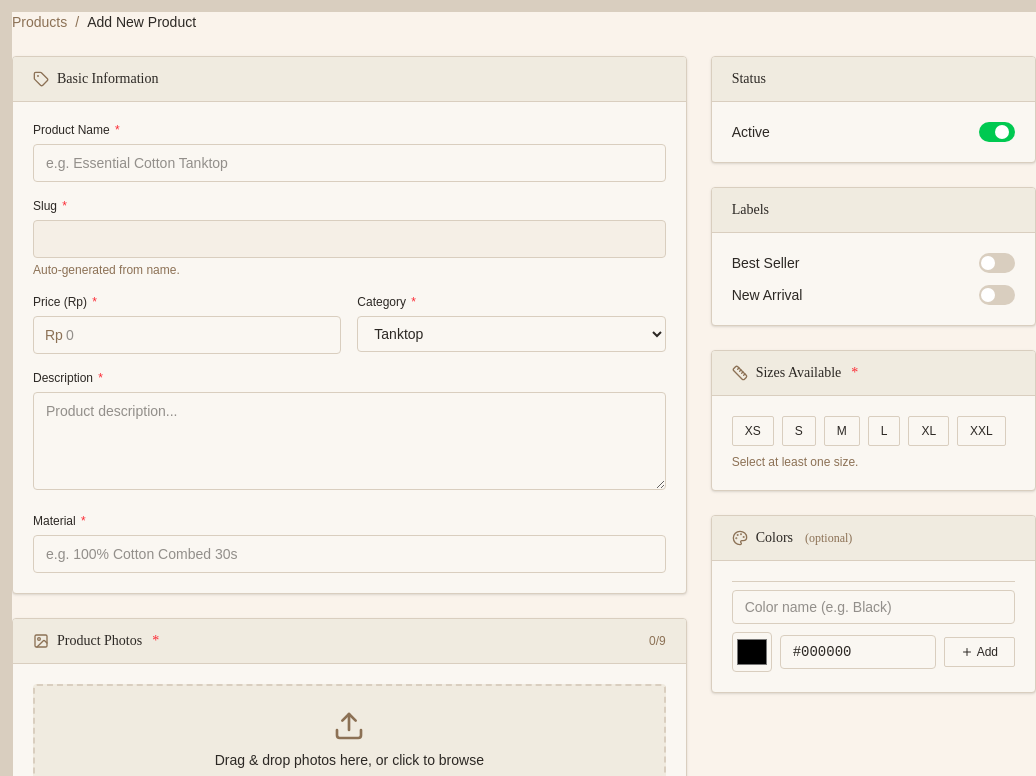
Test: ProductForm › Add mode (no product prop) › adds a color
The width and height of the screenshot is (1036, 776).
Type "Red" into the field with placeholder "Color name (e.g. Black)" at x=873, y=607, box [732, 590, 1015, 624]
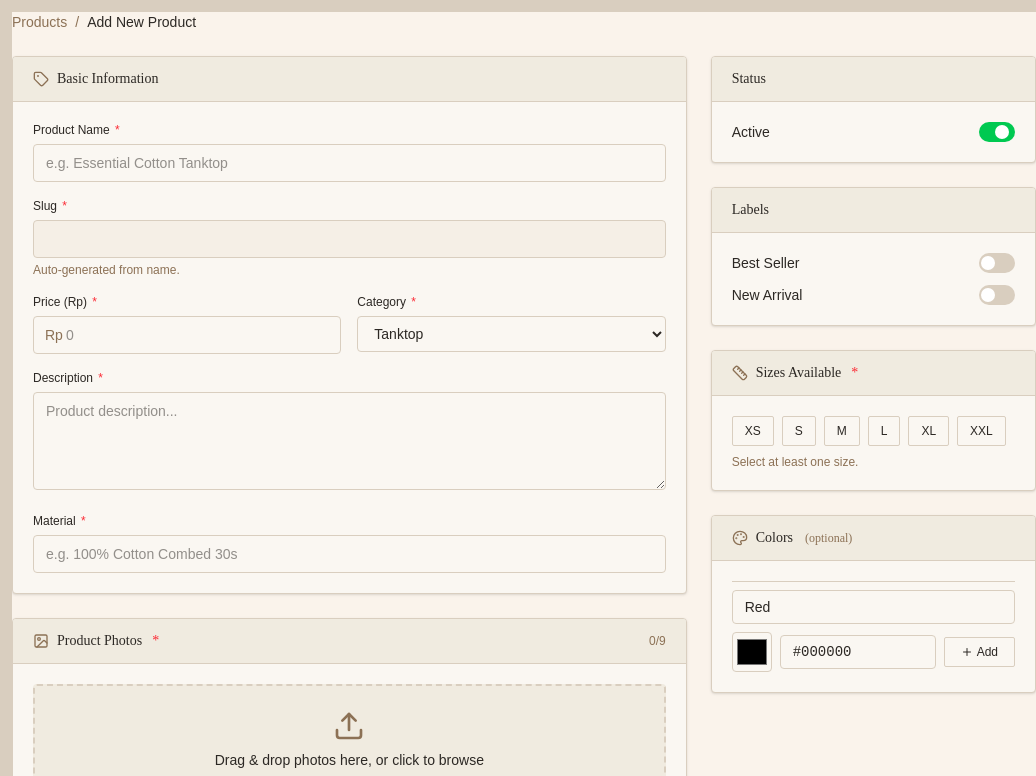
Click the button "Add" at x=979, y=652, box [944, 637, 1015, 667]
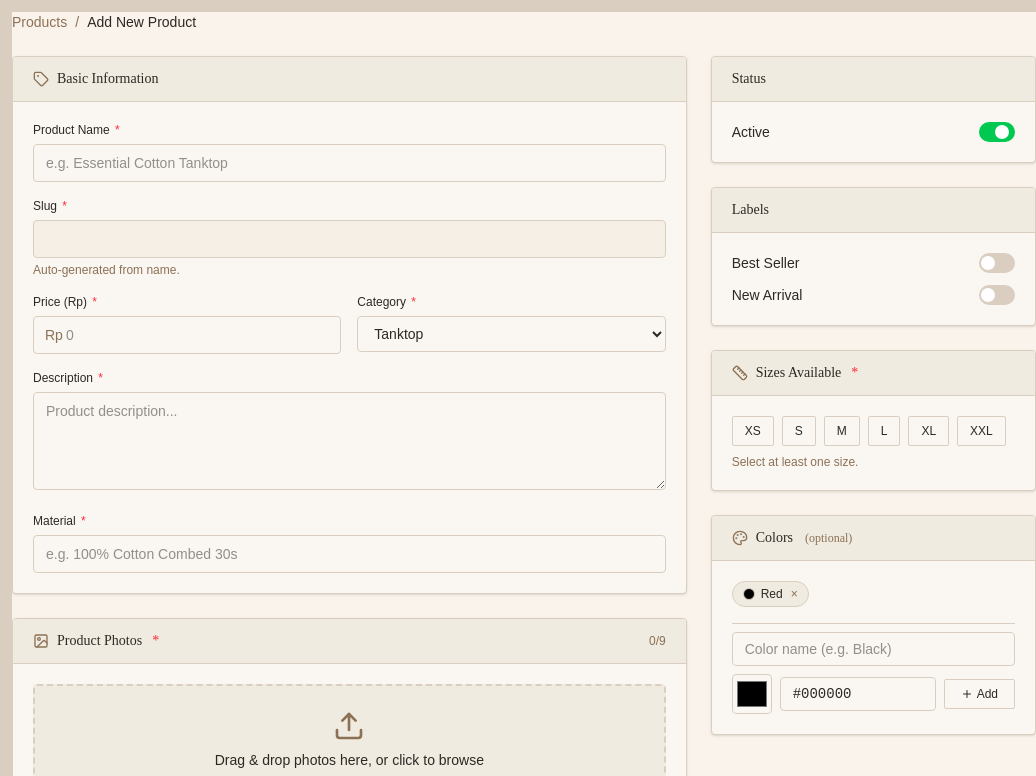
Expected: the text "Red" is shown, [761, 587, 783, 601]
